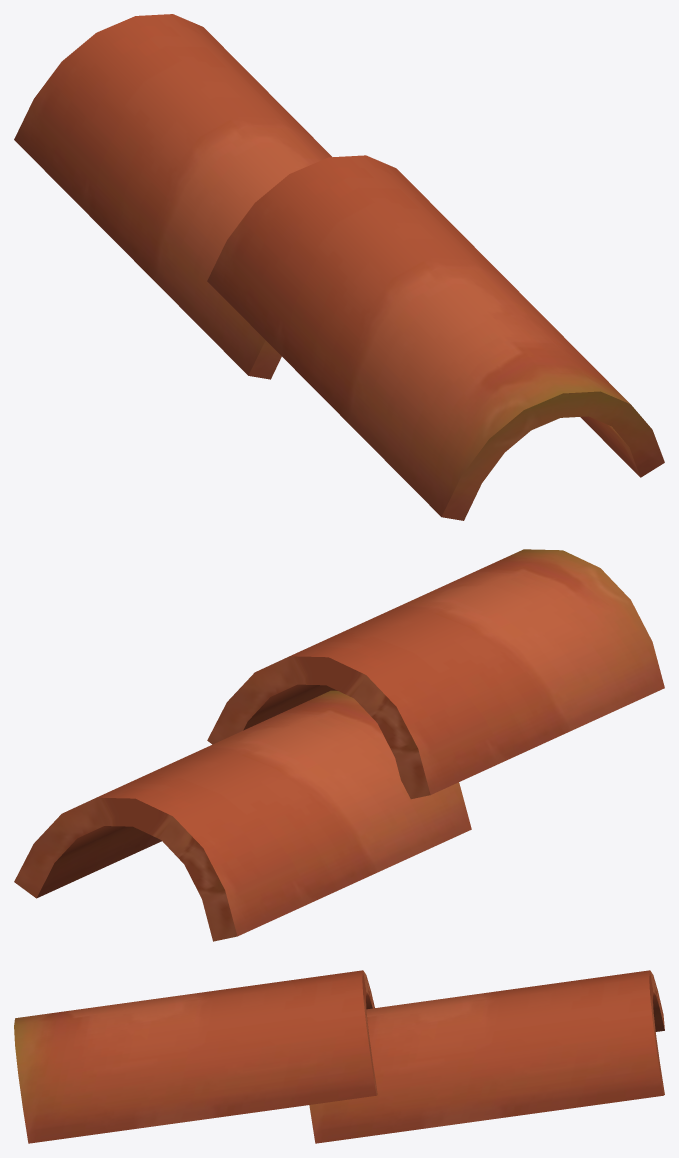
File: Roof_Modular_RoundTiles.gltf
3 renders of one model, top to bottom at view 1: azimuth 30°, elevation 25°; view 2: azimuth 150°, elevation 25°; view 3: azimuth 270°, elevation 25°, orthographic. The views are drawn at different scales.
Visible parts, largest first — view 1: Roof_Modular_RoundTiles; view 2: Roof_Modular_RoundTiles; view 3: Roof_Modular_RoundTiles.
Part boxes in pixels (x1,y1,x2,y2): Roof_Modular_RoundTiles: [14, 14, 664, 520]; Roof_Modular_RoundTiles: [14, 549, 664, 941]; Roof_Modular_RoundTiles: [14, 970, 664, 1143].
Size of the model in its own units: 0.6632 by 0.5055 by 2.25.
1 material, 1 textured.
